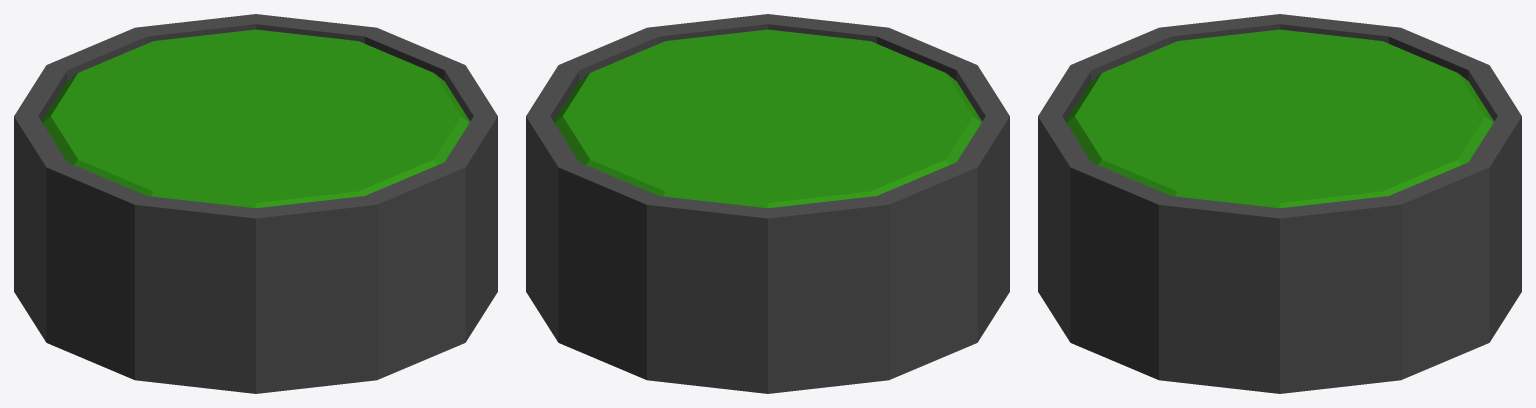
File: RoundPushButton.dae
3 views of the same model, side by side, from view 1: azimuth 30°, elevation 25°; view 2: azimuth 150°, elevation 25°; view 3: azimuth 270°, elevation 25° (orthographic).
Parts seen in each view (by area): view 1: RoundPushButton_Base, RoundPushButton_Head; view 2: RoundPushButton_Base, RoundPushButton_Head; view 3: RoundPushButton_Base, RoundPushButton_Head.
Boxes of the visible parts, left/top/right/bottom form: RoundPushButton_Base: left=14, top=14, right=497, bottom=393; RoundPushButton_Head: left=42, top=29, right=469, bottom=208; RoundPushButton_Base: left=526, top=14, right=1009, bottom=393; RoundPushButton_Head: left=554, top=29, right=981, bottom=208; RoundPushButton_Base: left=1038, top=14, right=1521, bottom=393; RoundPushButton_Head: left=1066, top=29, right=1493, bottom=208.
Size of the model in its own units: 1 by 1 by 0.4.
